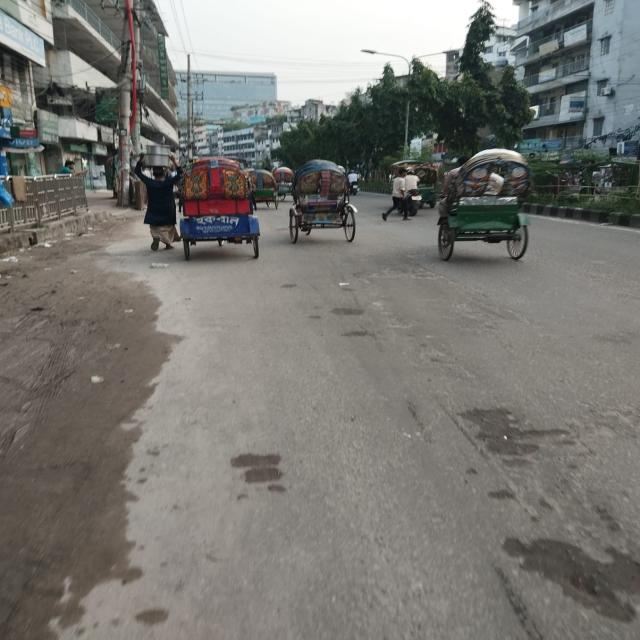person: (382, 168, 408, 220)
